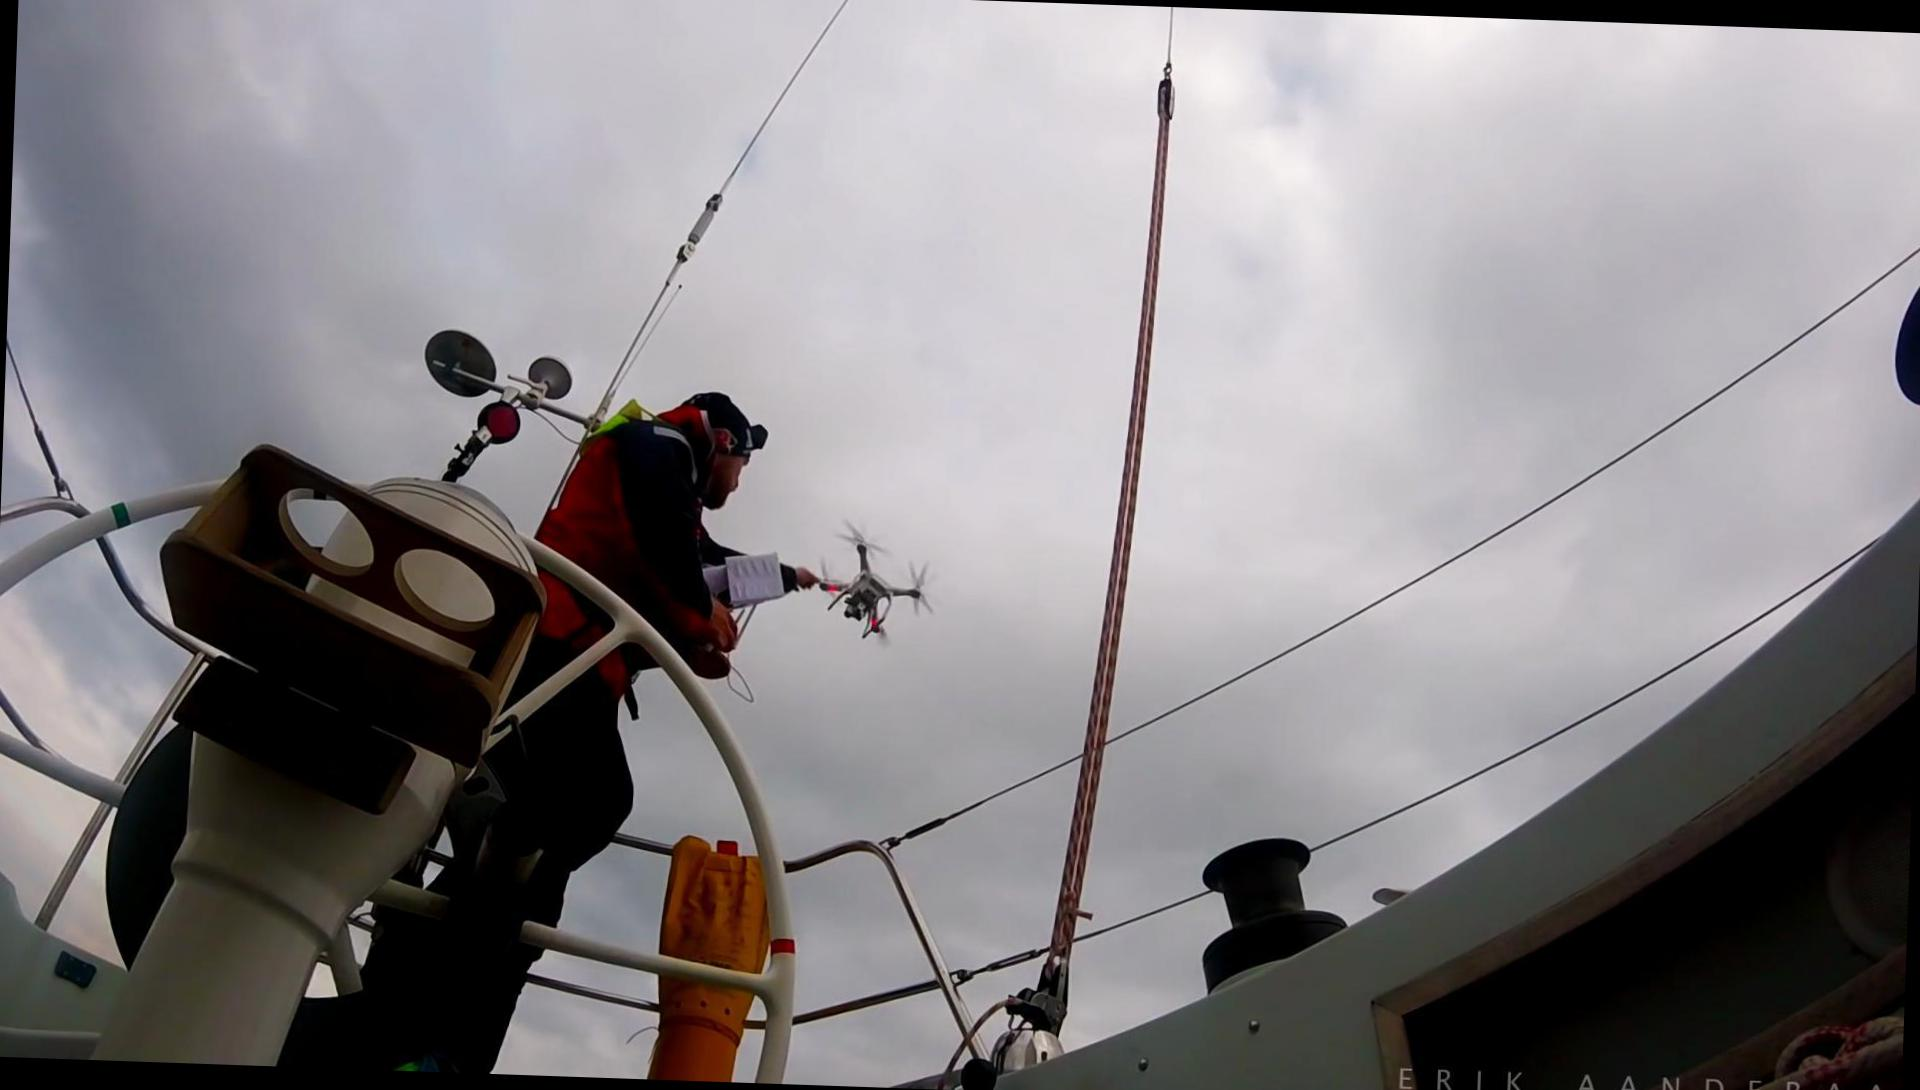drone: (793, 511, 934, 654)
